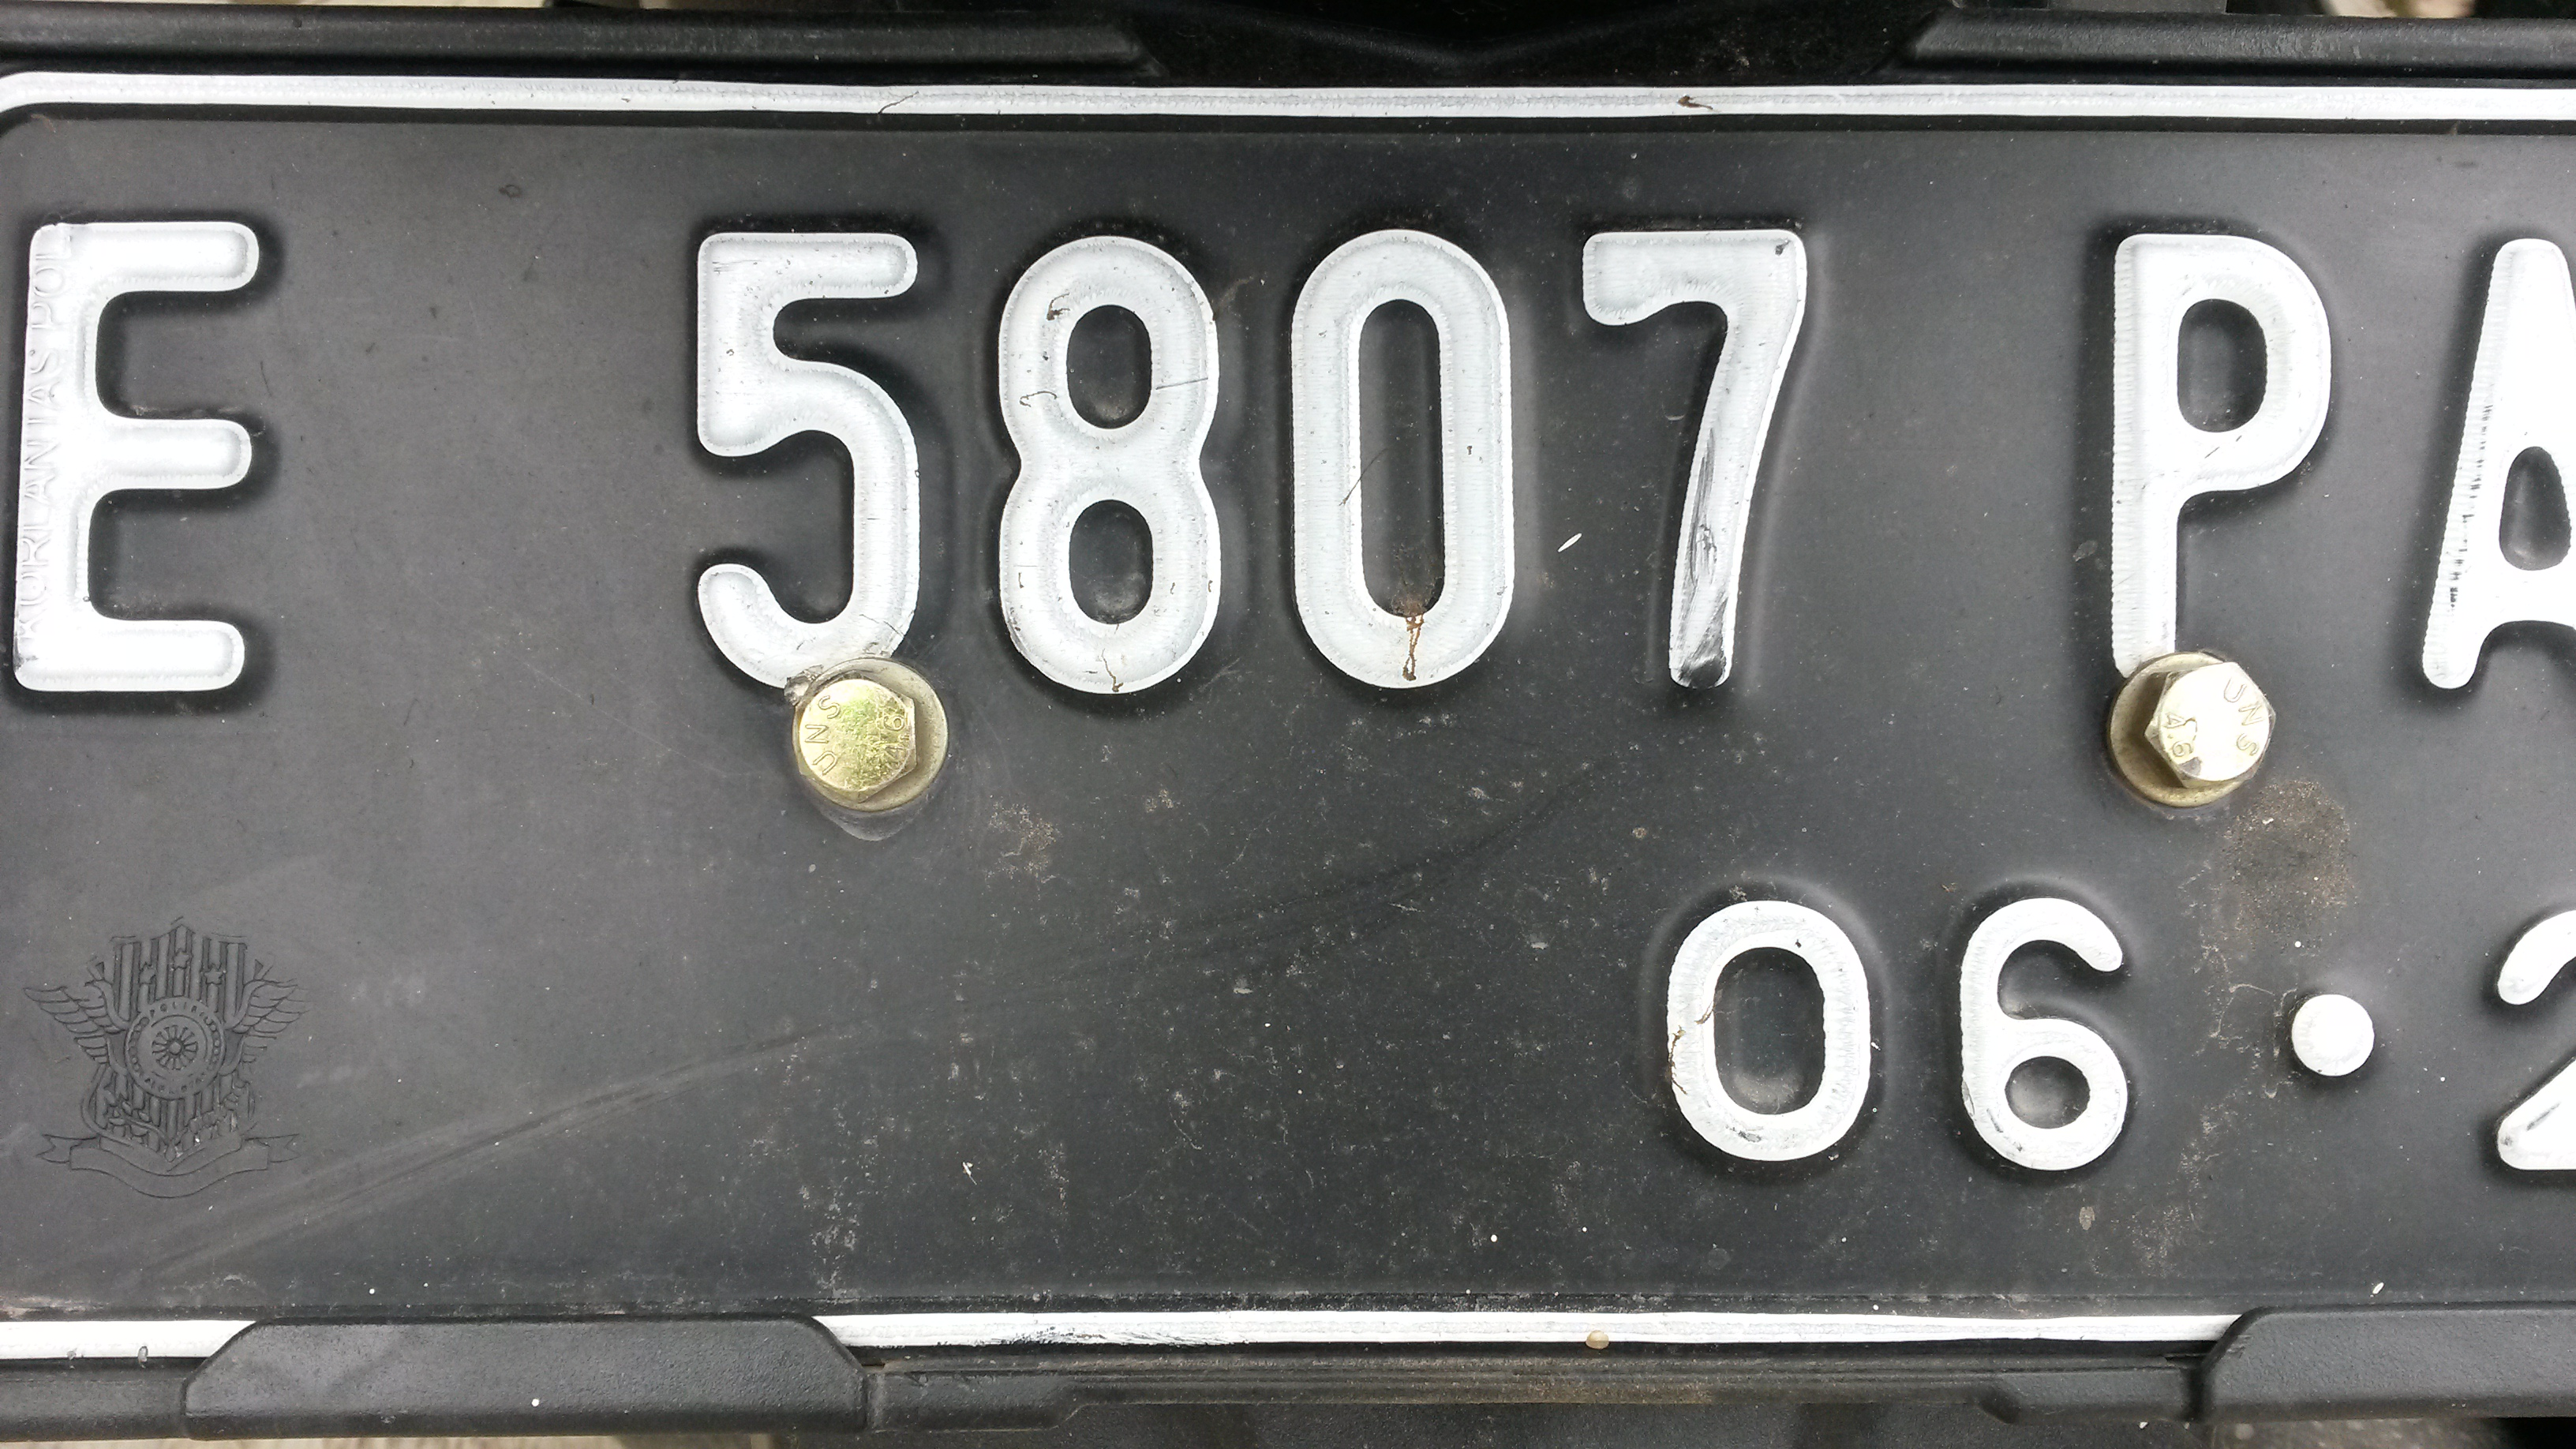plate: (2, 83, 2576, 1342)
